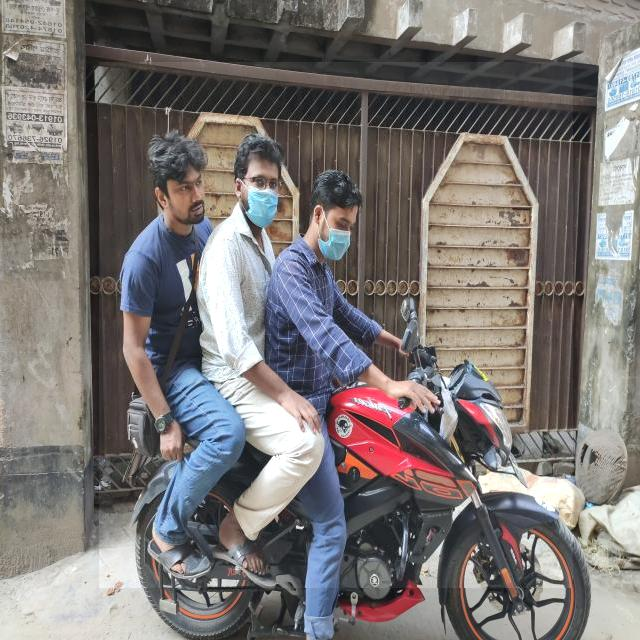Overloading: (100, 62, 574, 588)
